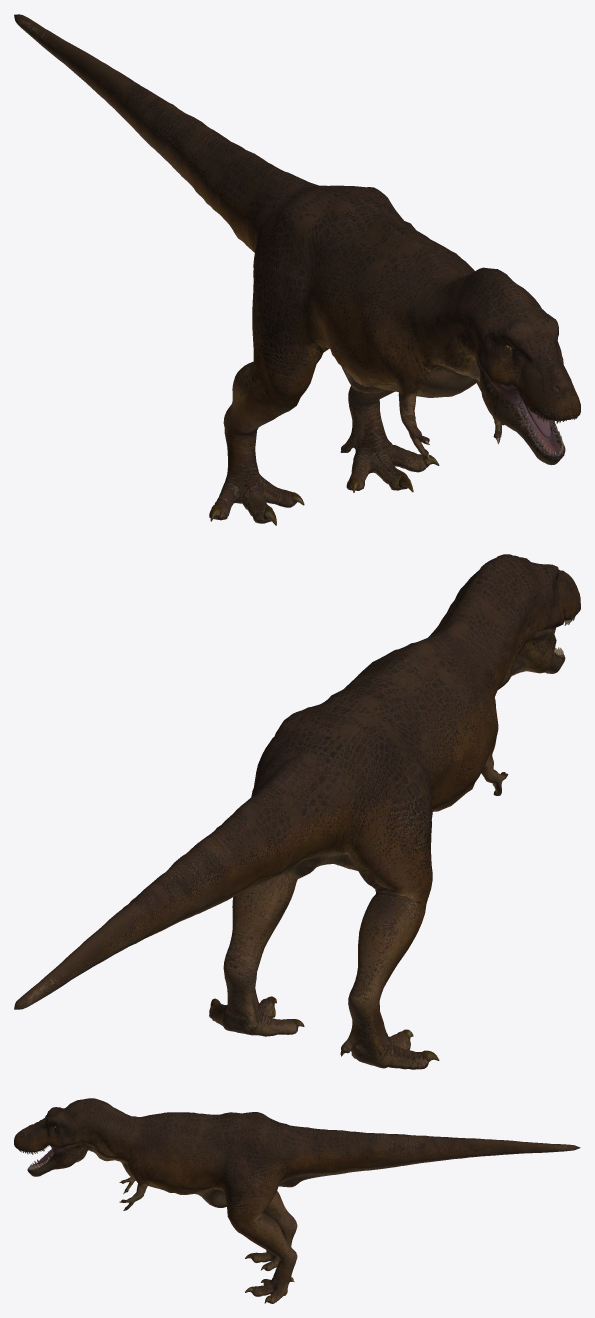
The model's file is trex.glb.
3 renders of one model, top to bottom at view 1: azimuth 30°, elevation 25°; view 2: azimuth 150°, elevation 25°; view 3: azimuth 270°, elevation 25°, orthographic. The views are drawn at different scales.
Visible parts, largest first — view 1: Tyrant_King_2_Body_0; view 2: Tyrant_King_2_Body_0; view 3: Tyrant_King_2_Body_0.
Part boxes in pixels (<box>): Tyrant_King_2_Body_0: <box>14,14,580,525</box>; Tyrant_King_2_Body_0: <box>14,554,580,1069</box>; Tyrant_King_2_Body_0: <box>14,1098,580,1303</box>.
Bounding box in the file's own units: 0.7828 × 1.16 × 3.31.
2 materials, 2 textured.
